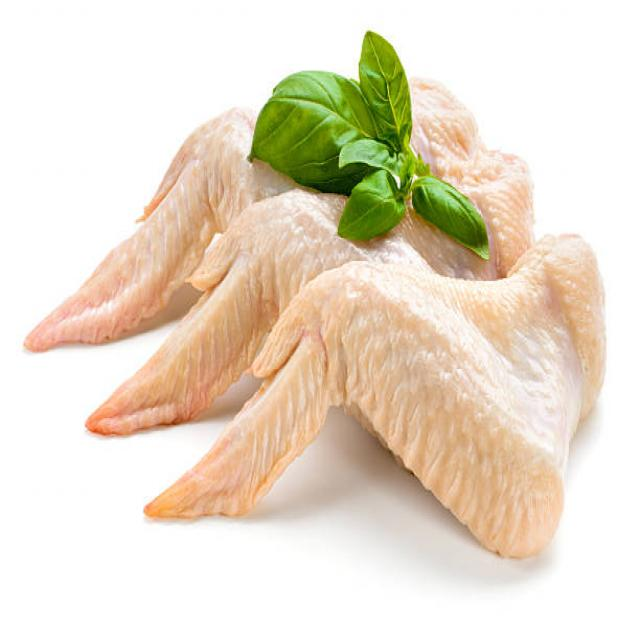chicken: (155, 265, 621, 567)
